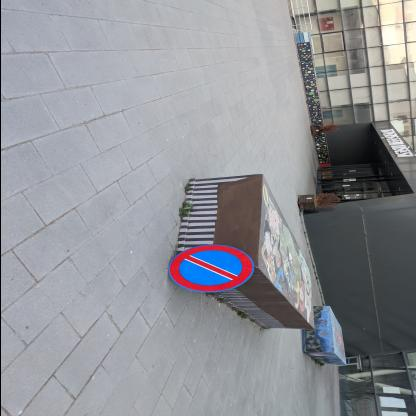No Waiting: (167, 245, 255, 295)
